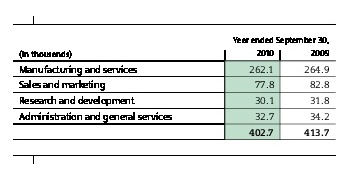table: (0, 0, 361, 172)
